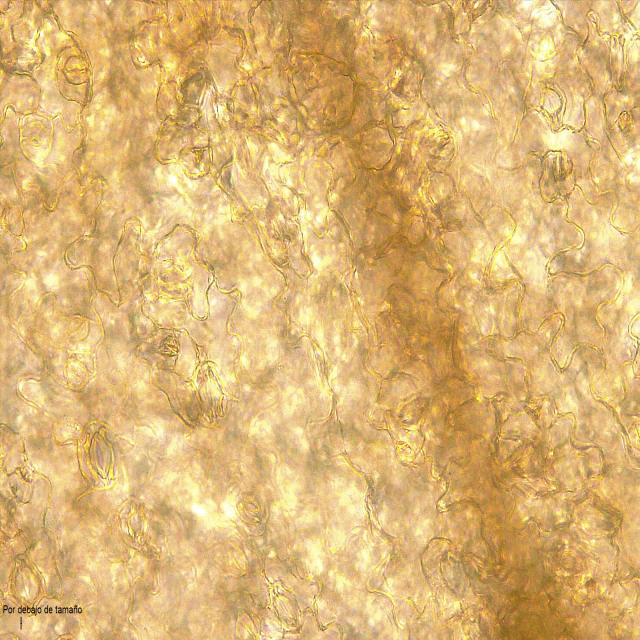Stomata: (76, 418, 124, 493), (189, 356, 235, 434), (265, 575, 306, 635), (117, 493, 151, 552), (232, 484, 268, 526), (21, 120, 54, 163)
